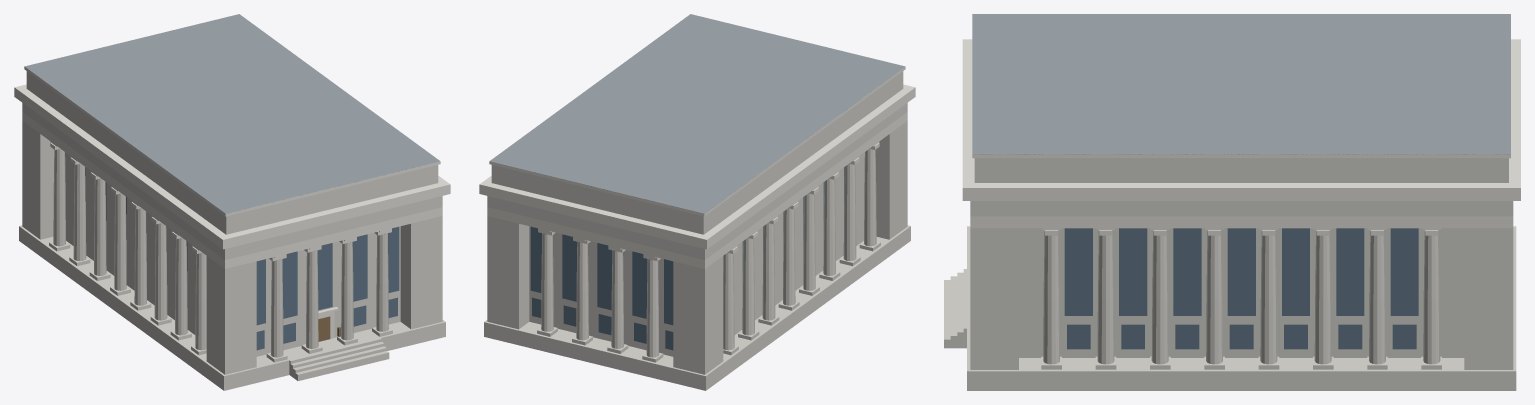
Rendered from slc-church-administration-building.glb.
The picture shows the model from 3 angles, left to right: view 1: azimuth 30°, elevation 25°; view 2: azimuth 150°, elevation 25°; view 3: azimuth 270°, elevation 25°; orthographic projection. The views are drawn at different scales.
Parts seen in each view (by area): view 1: Church Administration Building; view 2: Church Administration Building; view 3: Church Administration Building.
Boxes of the visible parts, x1,y1,x2,y2 form: Church Administration Building: (14,14,450,390); Church Administration Building: (479,14,915,390); Church Administration Building: (944,14,1520,390).
Bounding box in the file's own units: 32.4 × 23.8 × 53.1.
